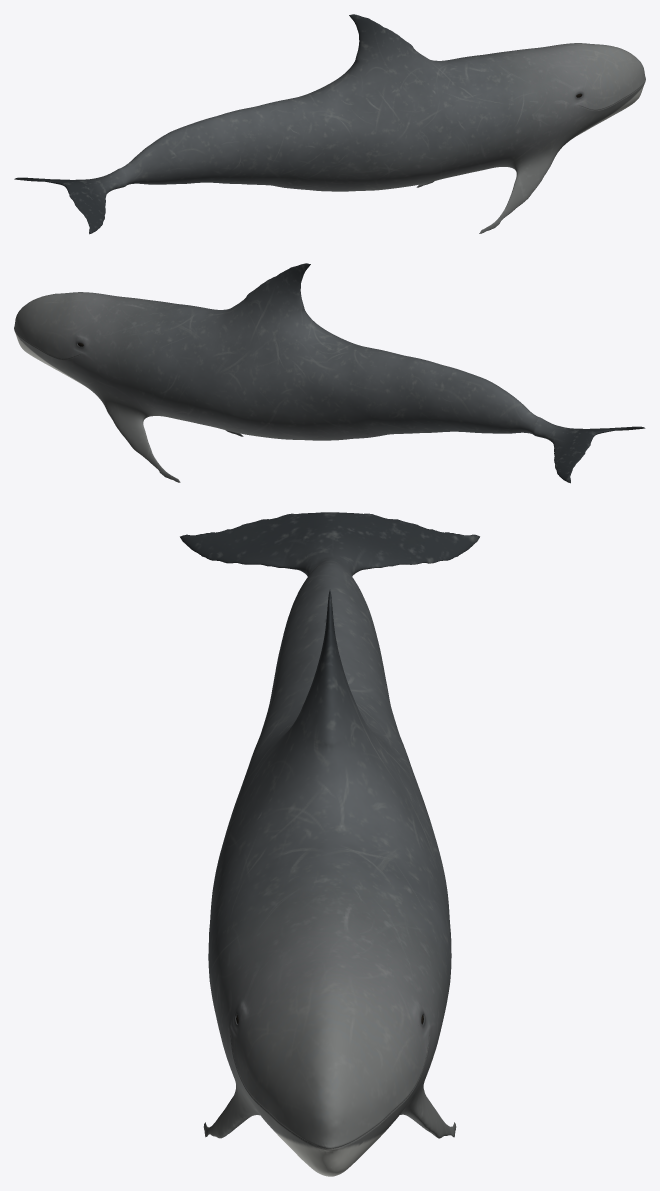
Rendered from model-cetacean-grampus-griseus-v0681.glb.
3 renders of one model, top to bottom at view 1: azimuth 30°, elevation 25°; view 2: azimuth 150°, elevation 25°; view 3: azimuth 270°, elevation 25°, orthographic. The views are drawn at different scales.
Visible parts, largest first — view 1: Risso — editable source-derived skin; view 2: Risso — editable source-derived skin; view 3: Risso — editable source-derived skin.
Boxes of the visible parts, left/top/right/bottom form: Risso — editable source-derived skin: left=14, top=14, right=645, bottom=234; Risso — editable source-derived skin: left=14, top=263, right=645, bottom=483; Risso — editable source-derived skin: left=180, top=512, right=479, bottom=1176.
Size of the model in its own units: 3.77 by 1.34 by 0.8267.
2 materials, 2 textured.
